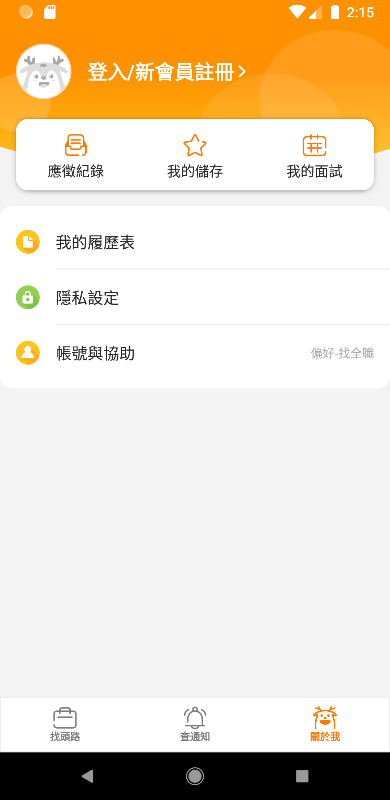button: (280, 127, 353, 187), (166, 130, 232, 185), (43, 130, 108, 183), (173, 704, 215, 746), (47, 704, 87, 746), (307, 704, 343, 748)
link: (11, 333, 144, 382), (10, 223, 143, 266), (8, 278, 135, 319)
